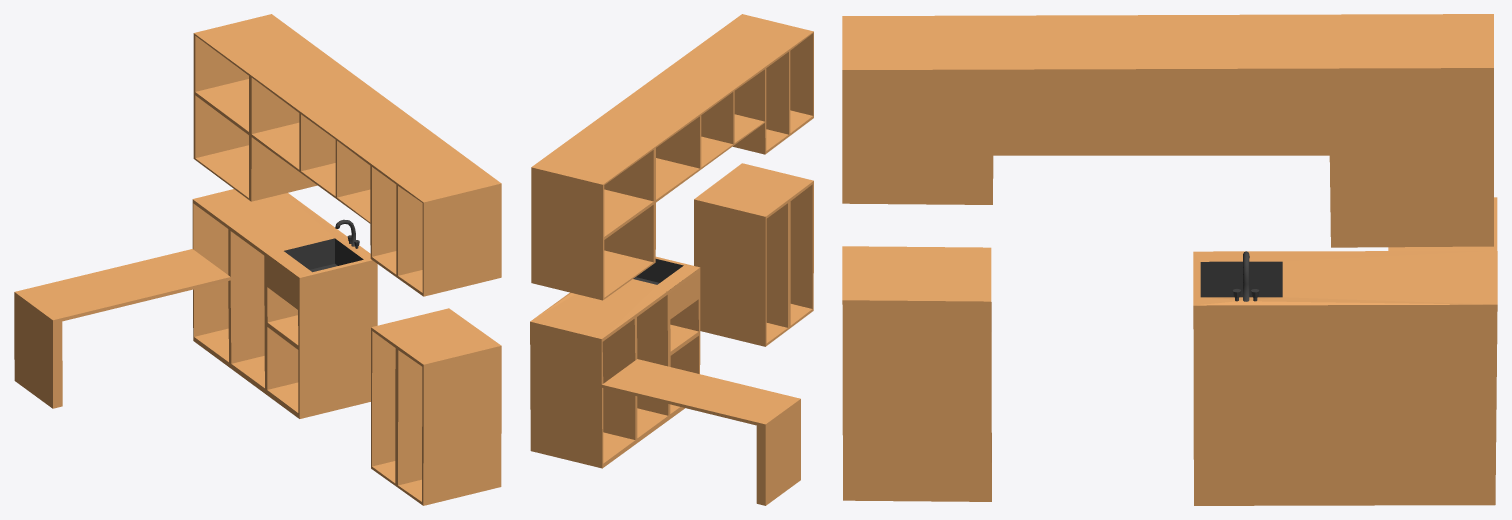
File: CocinaIntegral.fbx
3 renders of one model, left to right at view 1: azimuth 30°, elevation 25°; view 2: azimuth 150°, elevation 25°; view 3: azimuth 270°, elevation 25°, orthographic. The views are drawn at different scales.
Visible parts, largest first — view 1: Cube.039; view 2: Cube.039; view 3: Cube.039.
Boxes of the visible parts, x1,y1,x2,y2 form: Cube.039: (14,14,501,505); Cube.039: (530,14,813,505); Cube.039: (842,14,1497,505).
Size of the model in its own units: 1.55 by 1.79 by 2.42.
